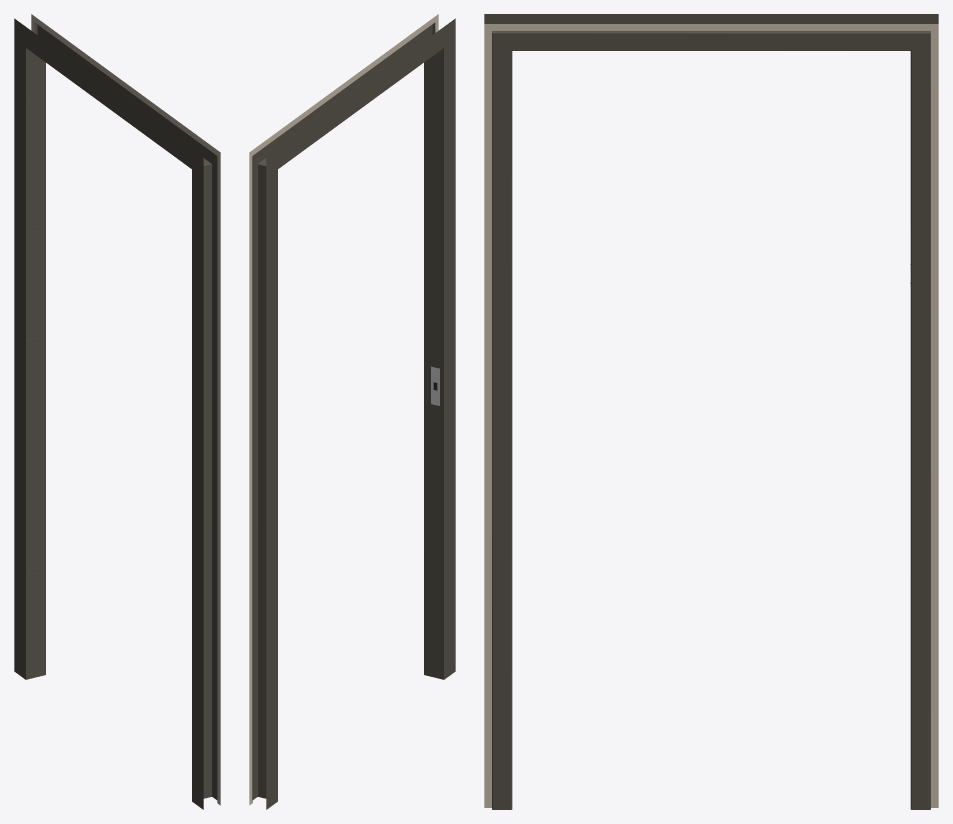
The model's file is Kit_DoorFrame_StairNorth.fbx.
3 views of the same model, side by side, from view 1: azimuth 30°, elevation 25°; view 2: azimuth 150°, elevation 25°; view 3: azimuth 270°, elevation 25° (orthographic). The views are drawn at different scales.
Visible parts, largest first — view 1: Kit_DoorFrame_StairNorth_LOD0; view 2: Kit_DoorFrame_StairNorth_LOD0; view 3: Kit_DoorFrame_StairNorth_LOD0.
Part boxes in pixels (box(x1,y1,x2,y2)): Kit_DoorFrame_StairNorth_LOD0: box(14, 14, 220, 809); Kit_DoorFrame_StairNorth_LOD0: box(249, 14, 455, 809); Kit_DoorFrame_StairNorth_LOD0: box(484, 14, 938, 809).
Size of what is drawn, in the model's own units: 0.0711 by 2.17 by 1.14.
